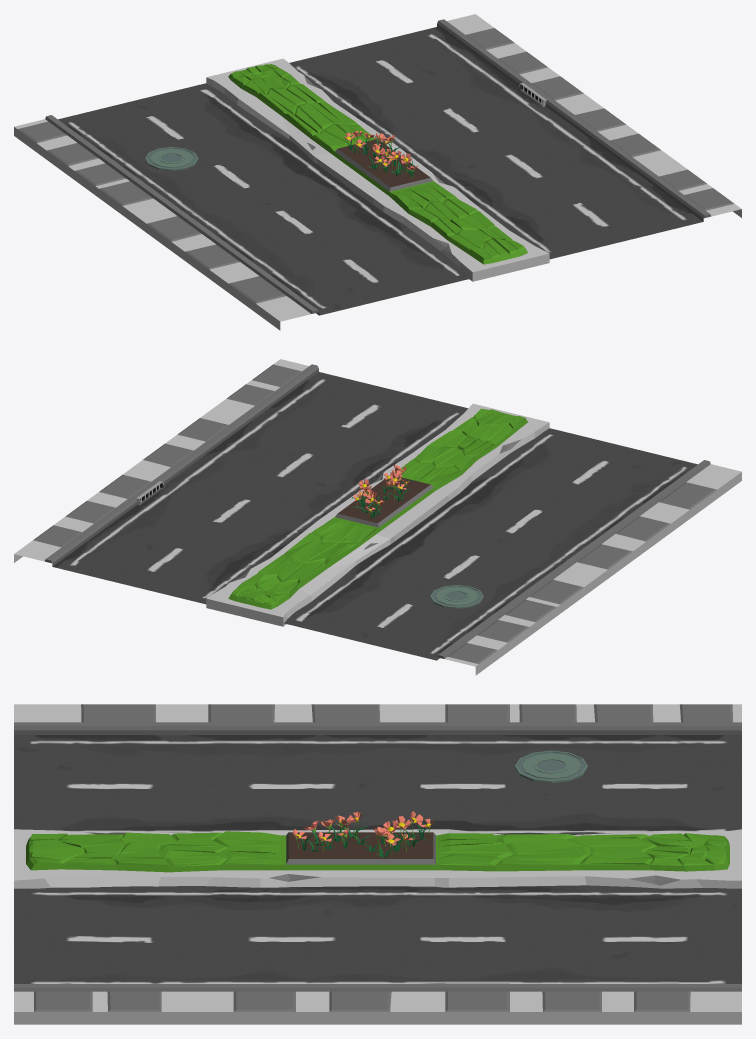
File: Road_Wide_01.fbx
3 views of the same model, one above another, from view 1: azimuth 30°, elevation 25°; view 2: azimuth 150°, elevation 25°; view 3: azimuth 270°, elevation 25° (orthographic). The views are drawn at different scales.
Visible parts, largest first — view 1: Road_Wide_01; view 2: Road_Wide_01; view 3: Road_Wide_01.
Boxes of the visible parts, <box> form: Road_Wide_01: <box>14,14,741,330</box>; Road_Wide_01: <box>14,359,741,675</box>; Road_Wide_01: <box>14,704,741,1024</box>.
Size of the model in its own units: 2400 by 195 by 2400.
